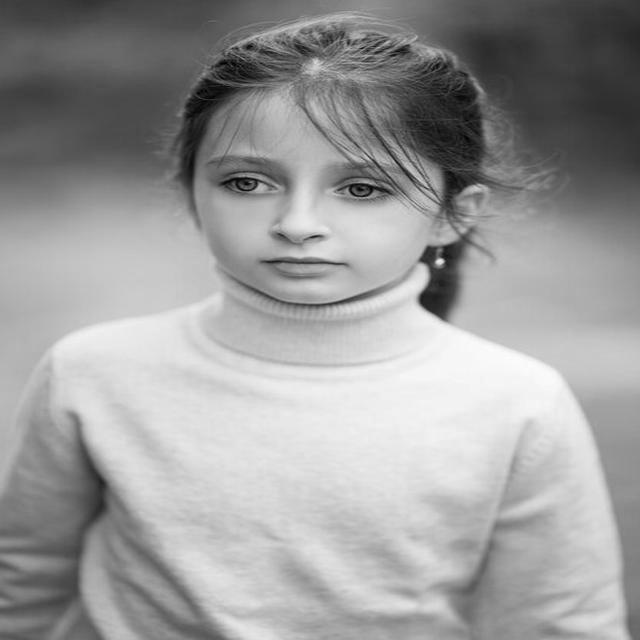Neutral: (193, 95, 443, 304)
